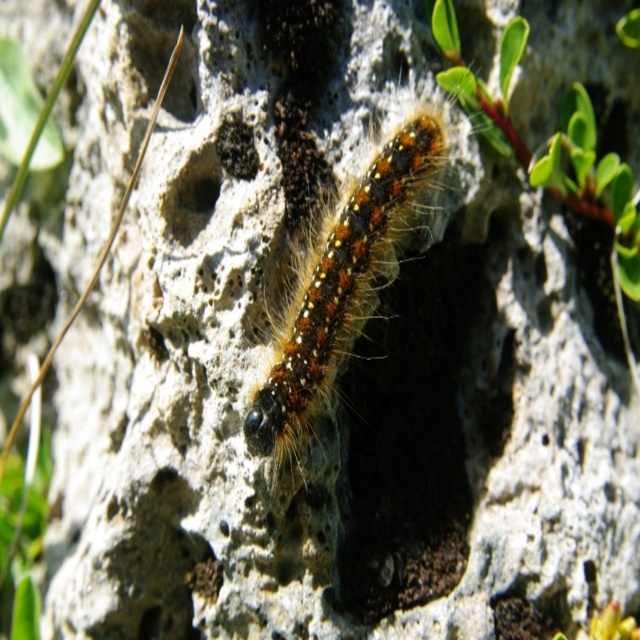Centipede: (236, 59, 490, 500)
